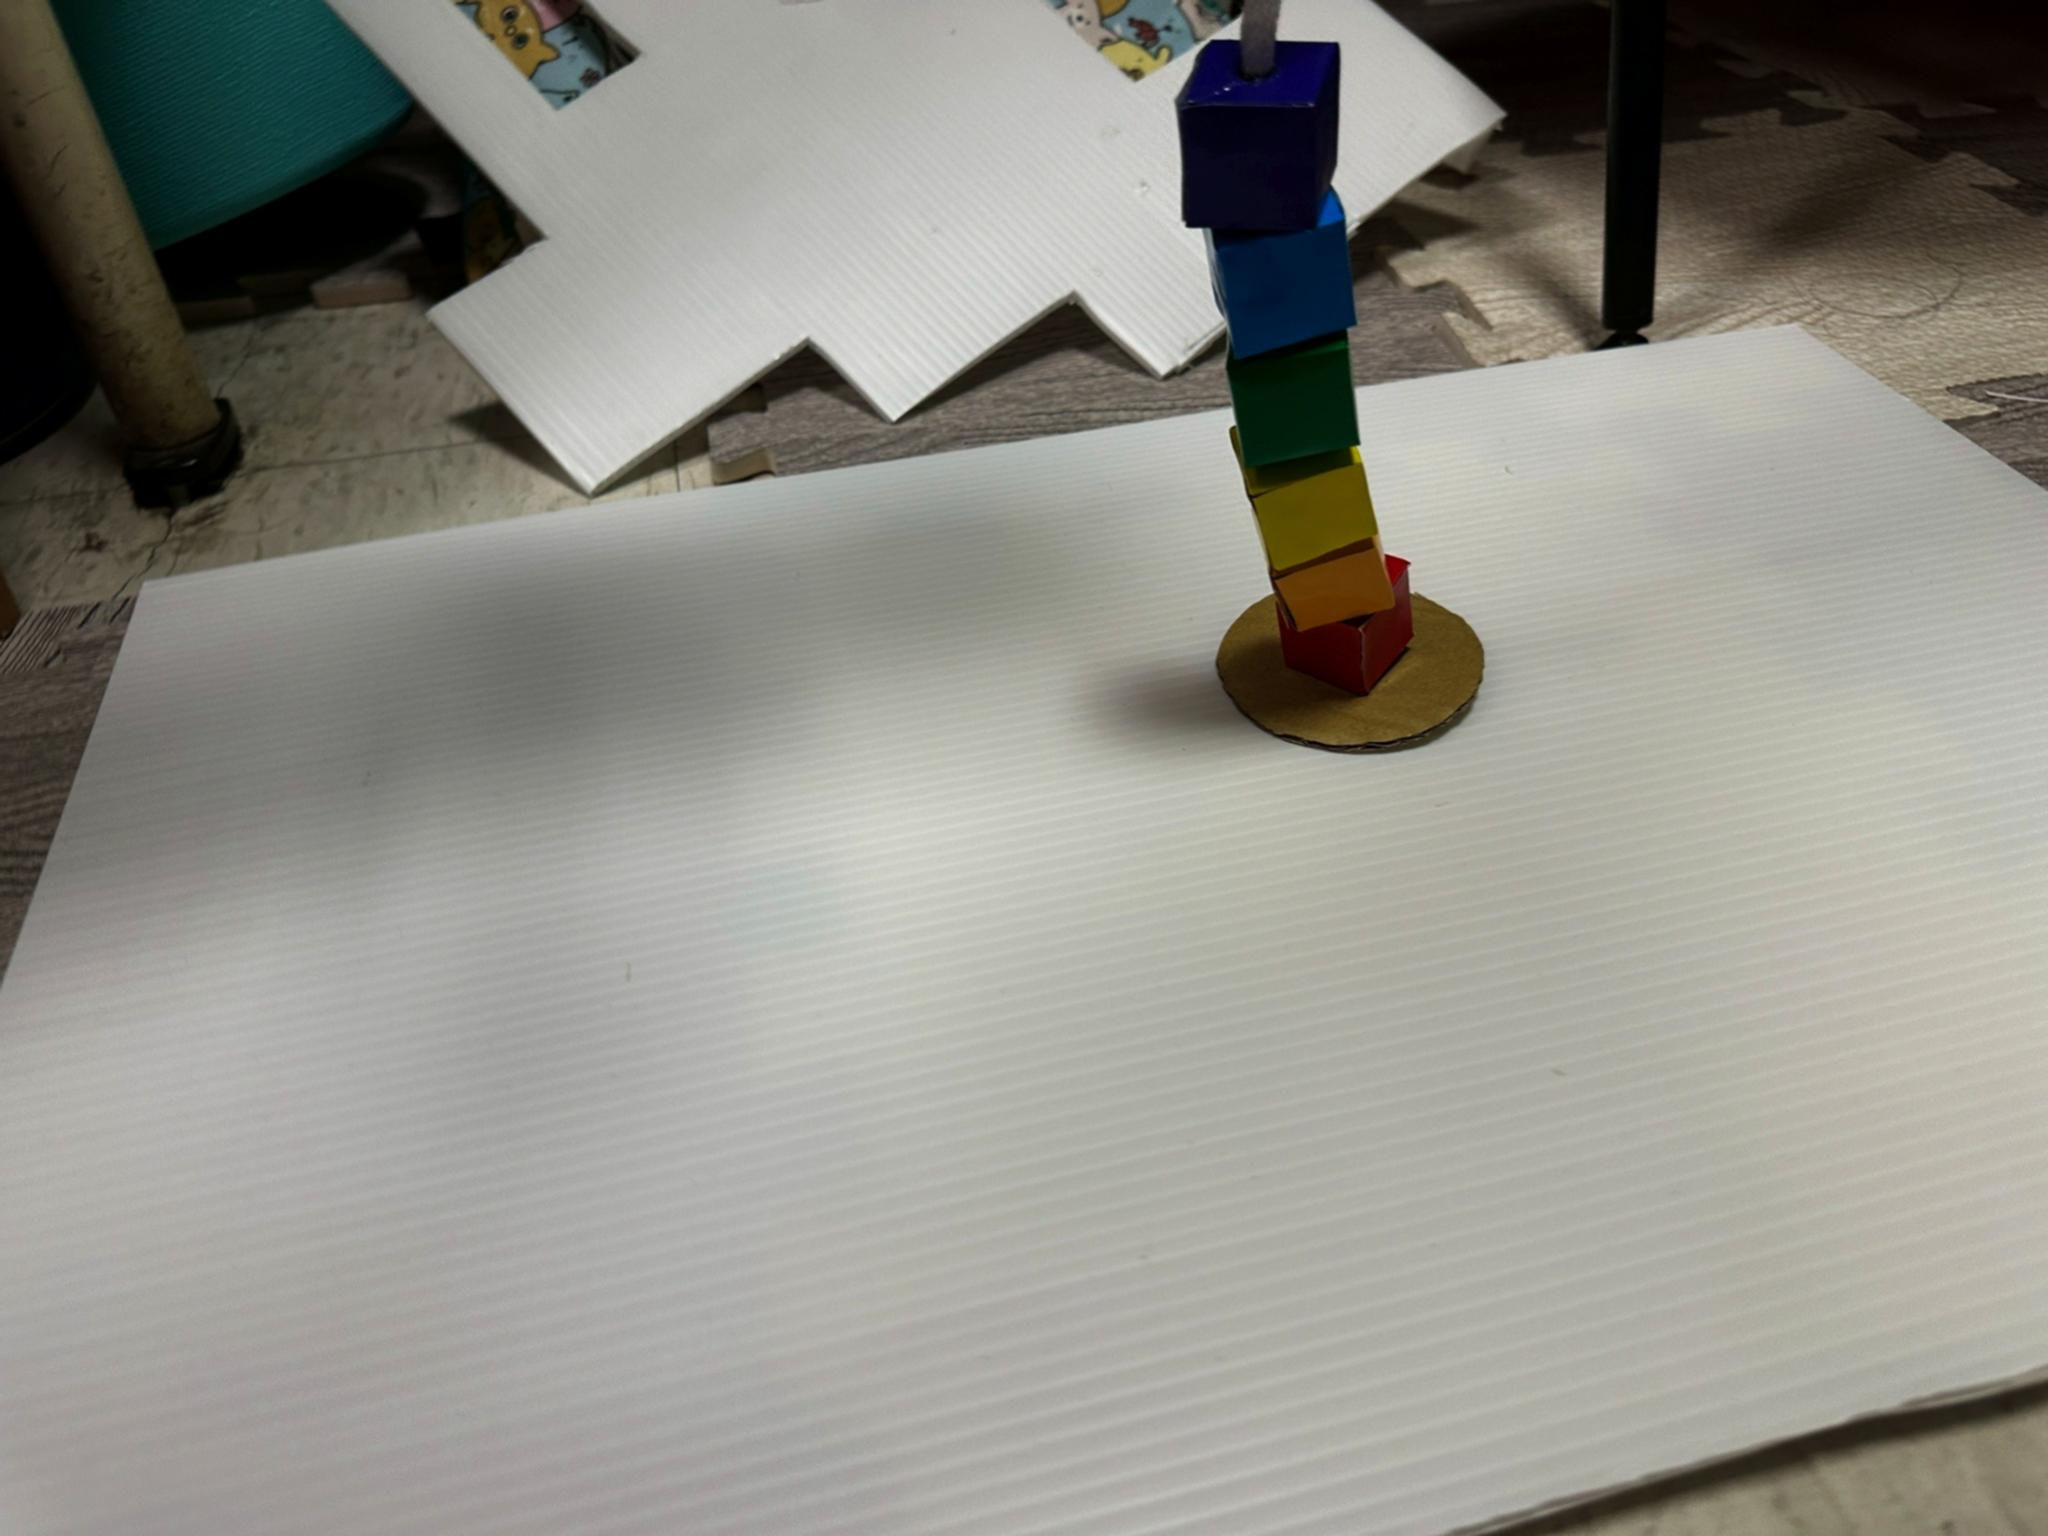base: (1216, 594, 1484, 752)
cube: (1177, 40, 1338, 231), (1213, 190, 1355, 358), (1230, 424, 1377, 573), (1277, 553, 1413, 695), (1227, 334, 1358, 468), (1274, 539, 1393, 631)
